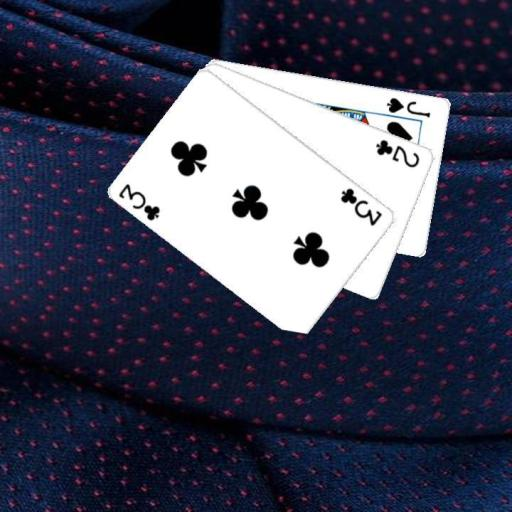2C: (373, 136, 422, 169)
3C: (338, 184, 385, 228), (115, 180, 162, 222)
JS: (384, 94, 433, 119)
